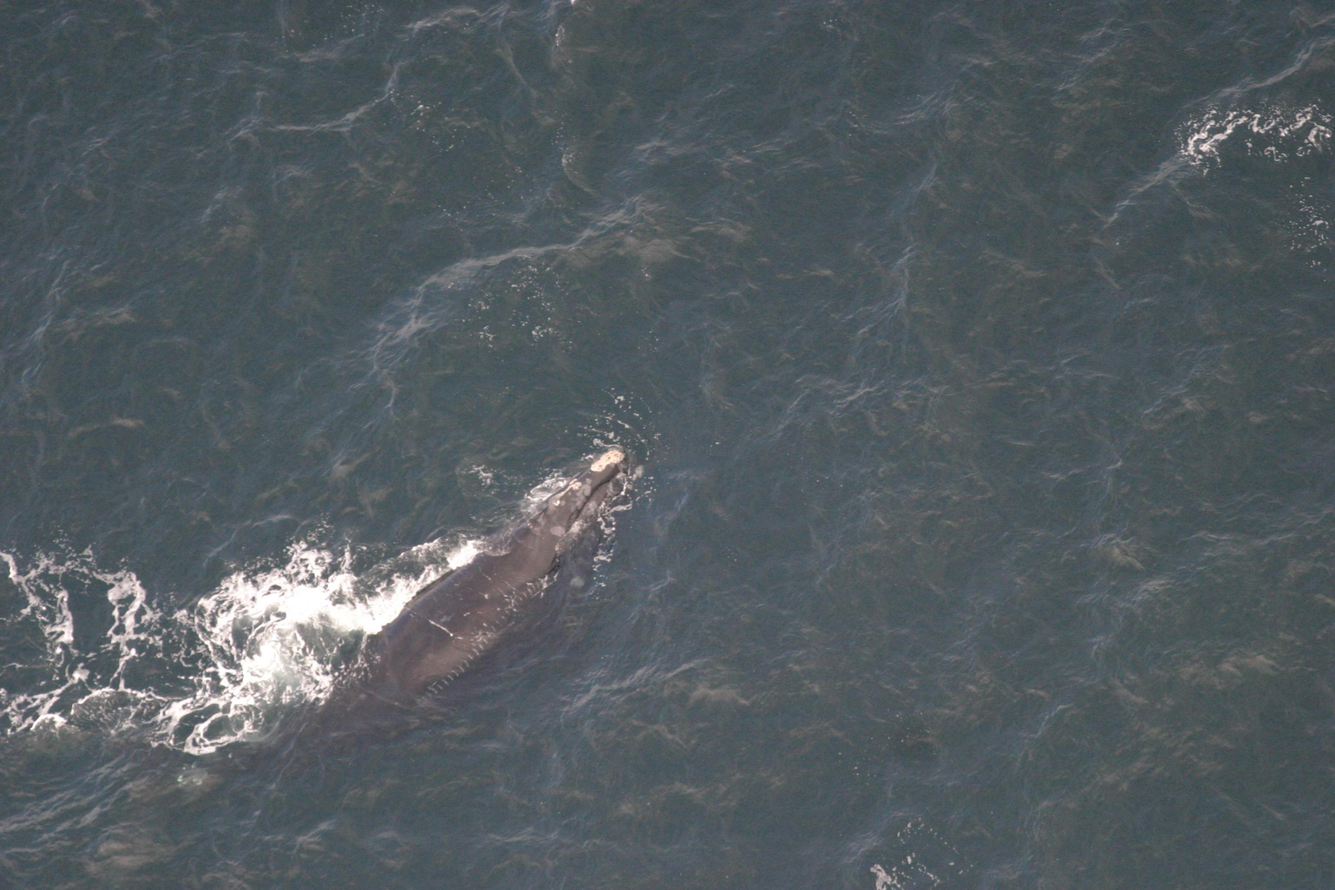whale: (113, 439, 659, 885)
